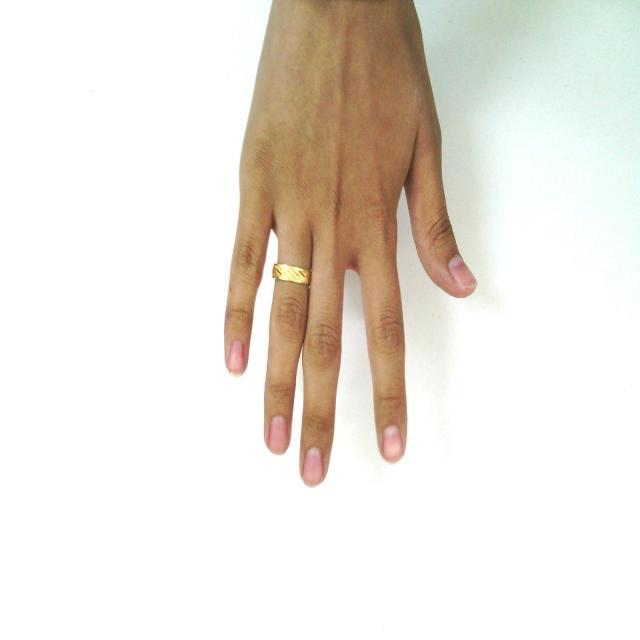Fingernail: (450, 257, 476, 287), (303, 447, 323, 485), (269, 416, 288, 452), (382, 425, 401, 460), (229, 340, 244, 373)
